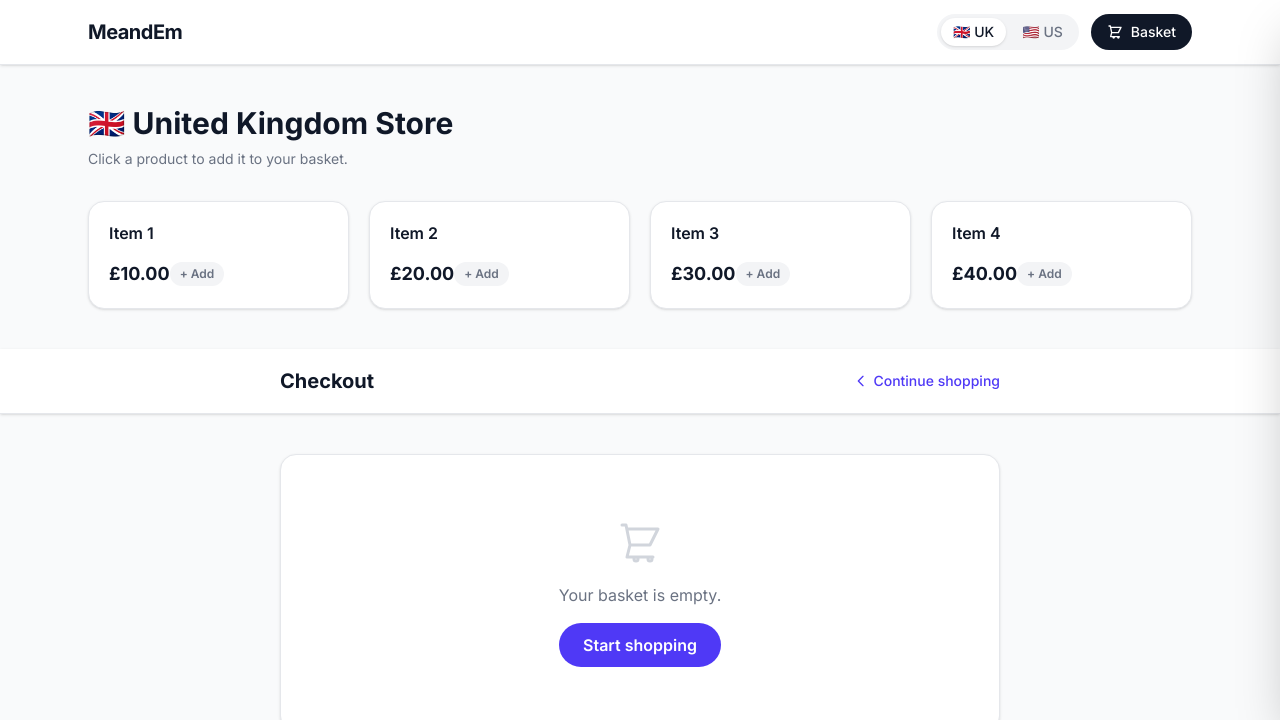
Test case: Checkout › removes item from basket when remove button clicked
Click the button "Item 1 £10.00 + Add" at (131, 233), box [88, 201, 349, 309]
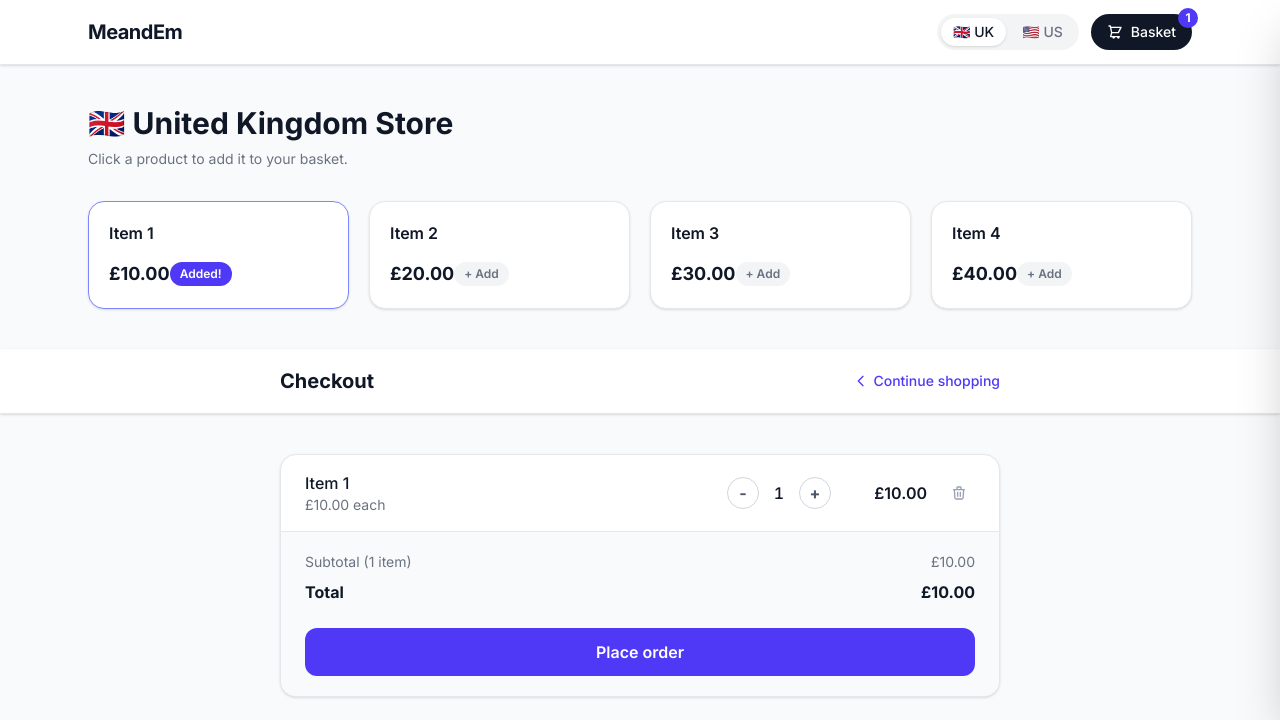
Click the button named "Remove Item 1" at (959, 493), box [943, 477, 975, 509]
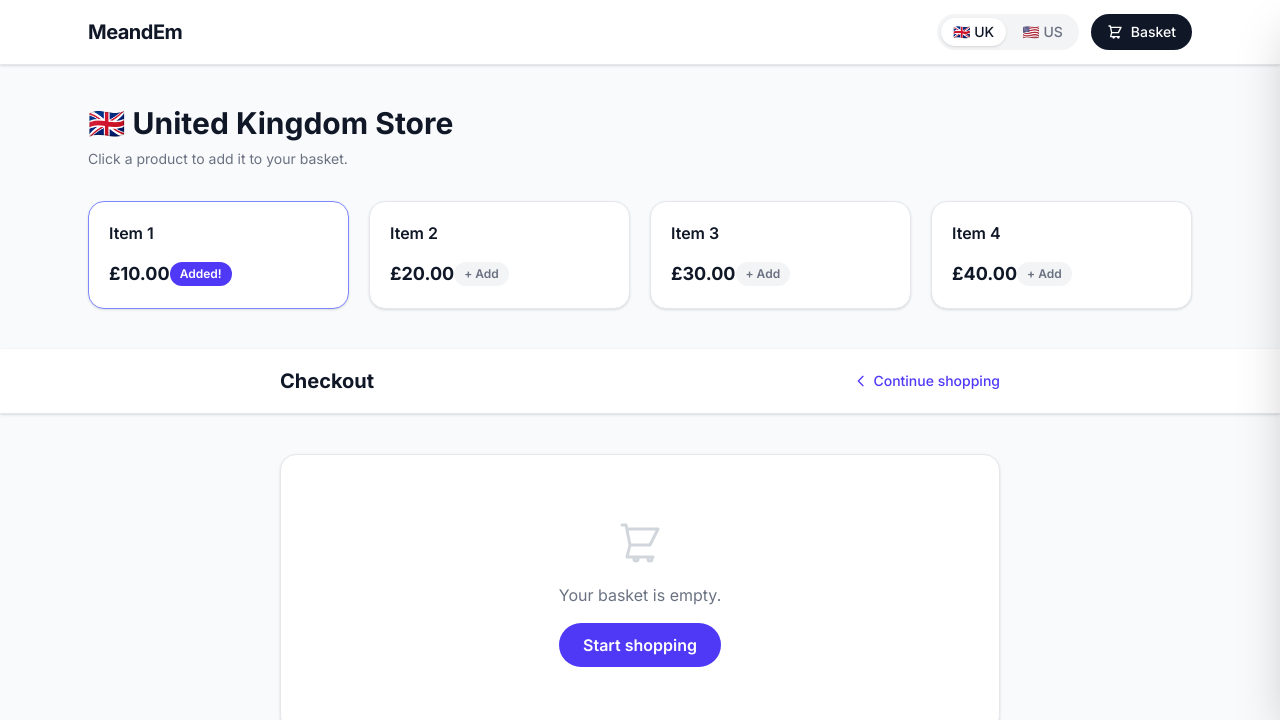
Expected: the text "Your basket is empty." is shown, [559, 585, 721, 605]
